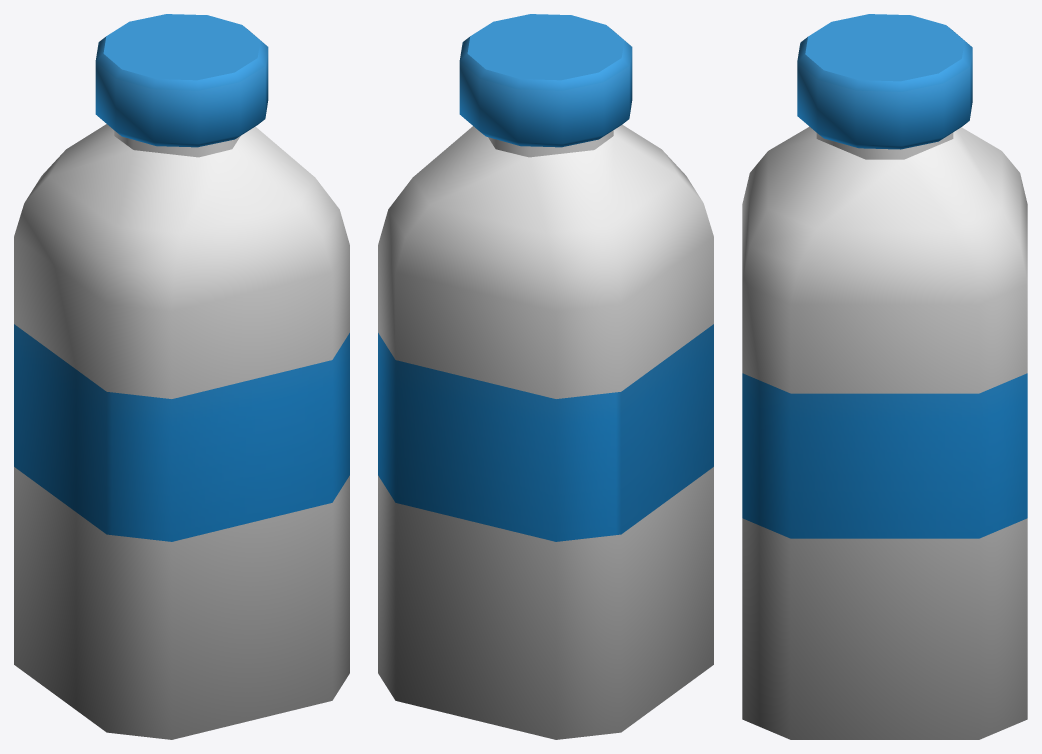
Rendered from ing_Milk.fbx.
3 views of the same model, side by side, from view 1: azimuth 30°, elevation 25°; view 2: azimuth 150°, elevation 25°; view 3: azimuth 270°, elevation 25° (orthographic).
Visible parts, largest first — view 1: ing_MilkStuff; view 2: ing_MilkStuff; view 3: ing_MilkStuff.
Part boxes in pixels (left/top/right/bottom): ing_MilkStuff: left=14, top=14, right=349, bottom=739; ing_MilkStuff: left=378, top=14, right=713, bottom=739; ing_MilkStuff: left=742, top=14, right=1027, bottom=739.
Size of the model in its own units: 16.66 by 40.71 by 16.66.
